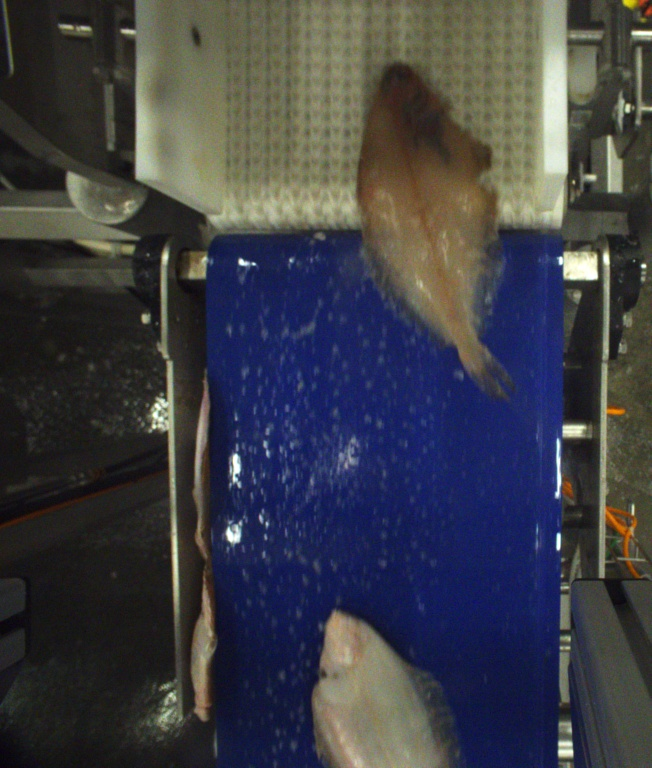WIT: (312, 610, 463, 768)
